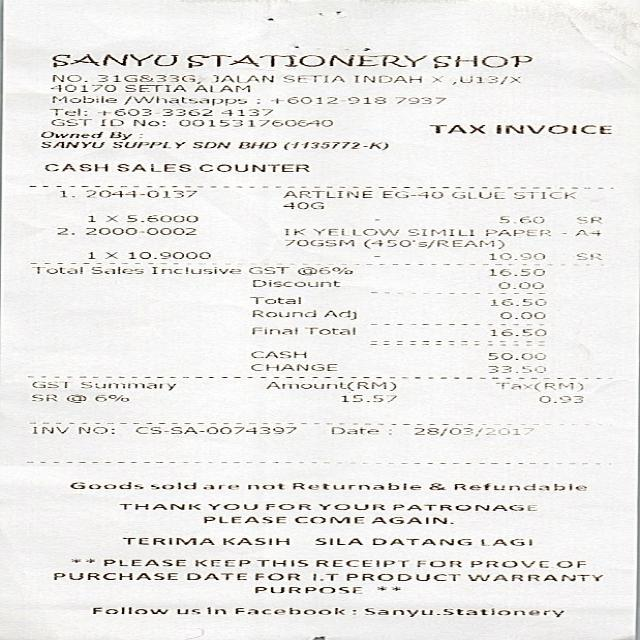text: (185, 54, 425, 67), (362, 607, 561, 616), (50, 53, 176, 66), (133, 426, 294, 434), (430, 54, 529, 67), (361, 239, 501, 248), (265, 381, 396, 390), (121, 95, 244, 104), (178, 118, 331, 125), (453, 482, 584, 490), (412, 427, 532, 435), (95, 74, 199, 83), (493, 124, 609, 132), (345, 572, 457, 580), (83, 226, 193, 234), (86, 189, 195, 197), (50, 572, 174, 579), (78, 381, 174, 390), (391, 503, 532, 509), (282, 141, 386, 149), (267, 96, 383, 103), (465, 574, 600, 580), (492, 382, 581, 391), (96, 108, 210, 115), (290, 482, 418, 488), (198, 163, 306, 170), (234, 607, 342, 614), (120, 536, 212, 544), (281, 190, 371, 198), (149, 266, 238, 274), (125, 250, 209, 258), (101, 558, 183, 566), (314, 559, 406, 566), (253, 586, 360, 592), (311, 228, 397, 235), (251, 279, 337, 286), (90, 606, 165, 614), (111, 140, 183, 148), (372, 538, 468, 544), (124, 214, 195, 222), (468, 560, 546, 567), (485, 364, 545, 373), (450, 76, 517, 84), (352, 74, 418, 82), (68, 481, 142, 488), (222, 536, 286, 544), (115, 163, 188, 170), (201, 516, 284, 522), (40, 140, 102, 148), (369, 516, 451, 522), (380, 190, 440, 198), (486, 252, 544, 260), (48, 84, 114, 91), (406, 228, 472, 235), (489, 328, 546, 336), (49, 95, 114, 102), (294, 267, 350, 275), (340, 394, 396, 402), (208, 74, 271, 81), (280, 74, 343, 81), (250, 309, 313, 316), (428, 124, 483, 132), (122, 84, 184, 91), (42, 163, 104, 170), (249, 364, 335, 369), (291, 516, 361, 522), (184, 572, 244, 579), (486, 352, 545, 359), (284, 239, 352, 245), (90, 265, 141, 273), (316, 503, 384, 509), (254, 558, 305, 566), (488, 298, 546, 305), (451, 190, 501, 198), (487, 268, 544, 275), (483, 229, 548, 235), (192, 84, 247, 91), (248, 350, 303, 357), (328, 426, 376, 434), (175, 606, 223, 614), (496, 281, 543, 289), (41, 131, 102, 137), (512, 192, 573, 198), (302, 327, 354, 334), (219, 108, 270, 115), (253, 572, 297, 580), (248, 296, 298, 303), (312, 537, 360, 544), (192, 559, 248, 565), (498, 311, 545, 318), (247, 266, 287, 274), (322, 310, 354, 320), (117, 504, 197, 508), (250, 326, 295, 333), (537, 395, 582, 402), (497, 215, 541, 222), (30, 266, 81, 272), (479, 538, 529, 544), (394, 96, 442, 102), (76, 426, 112, 434), (29, 381, 70, 388), (149, 482, 193, 488), (416, 560, 459, 566), (108, 131, 140, 139), (48, 107, 84, 114), (281, 202, 322, 208), (49, 119, 89, 125), (189, 141, 229, 147), (50, 74, 84, 81), (92, 394, 126, 401), (236, 141, 275, 147), (246, 482, 283, 488), (30, 426, 66, 432), (132, 118, 162, 125), (311, 572, 336, 580), (555, 560, 583, 567), (29, 393, 56, 400), (64, 393, 85, 402), (207, 504, 254, 508), (263, 504, 308, 508), (97, 118, 121, 125), (575, 215, 599, 222), (575, 252, 599, 259), (281, 228, 303, 235), (200, 484, 237, 488), (574, 229, 598, 235), (427, 482, 444, 490), (56, 226, 71, 234), (102, 250, 115, 258), (103, 214, 115, 222), (57, 190, 67, 197), (86, 214, 94, 222), (87, 250, 93, 258), (431, 77, 440, 81)
